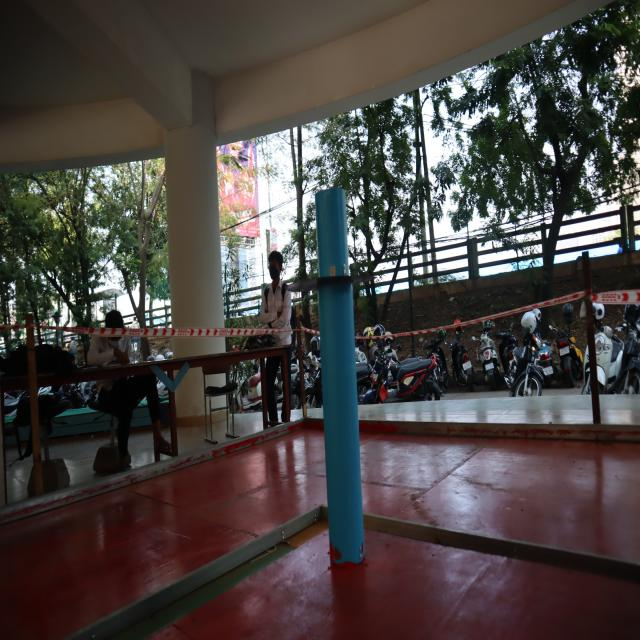pole: (282, 182, 377, 376)
